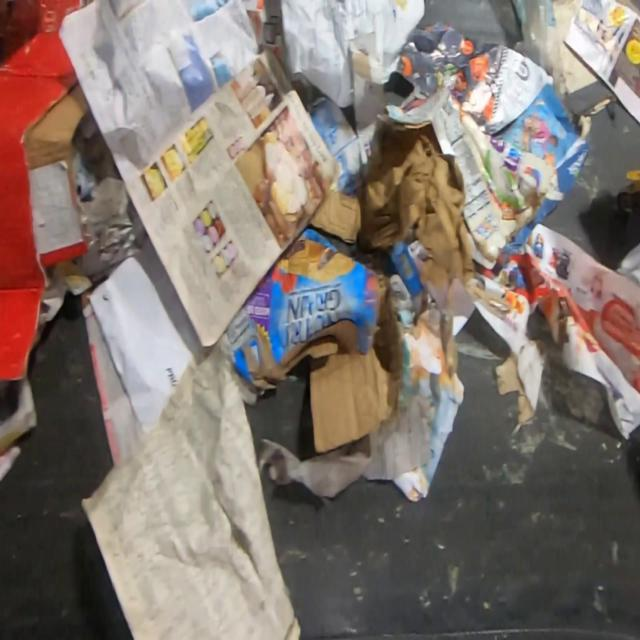cardboard: (217, 227, 405, 452), (0, 0, 99, 383), (307, 128, 474, 282)
soft_plastic: (509, 3, 568, 114)
